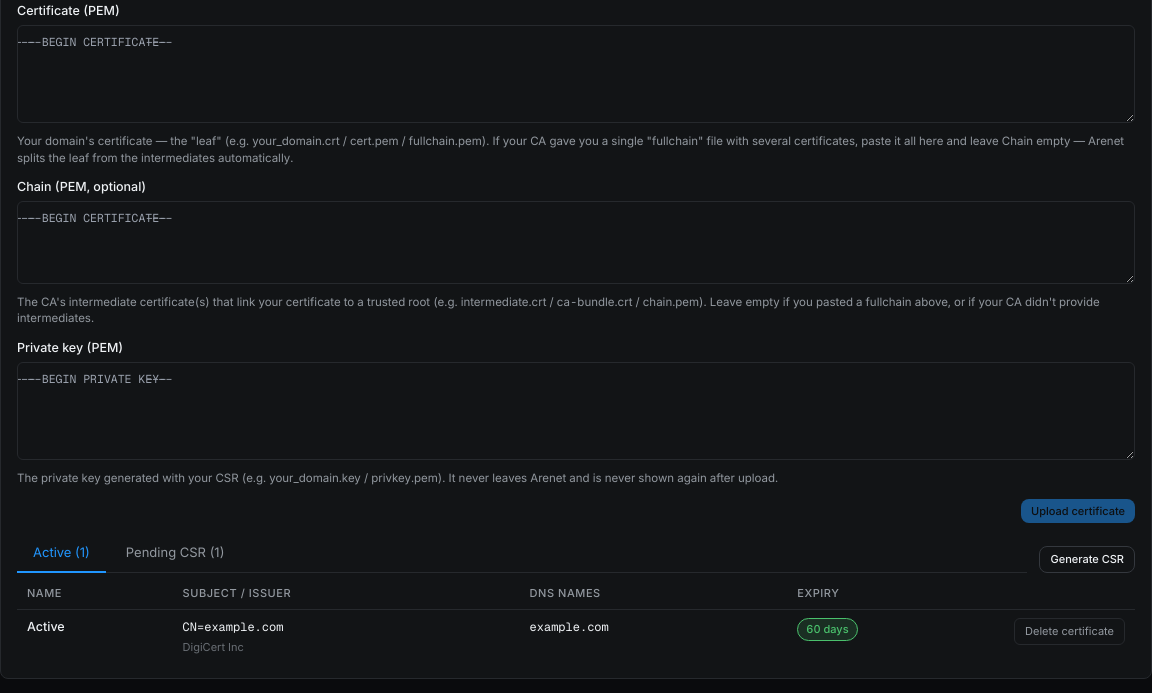
Scenario: ExternalCertsPanel — Active / Pending CSR tabs › splits active and pending_csr rows into tabs
(page scrolled)
Expected: the table with test id "external-certs-table" is shown, x1=17 y1=577 x2=1135 y2=664
Expected: the text "Active" is shown, x1=27 y1=619 x2=65 y2=634
Click the tab with test id "external-certs-tab-pending": (175,554) x1=110 y1=535 x2=240 y2=573
(page scrolled)
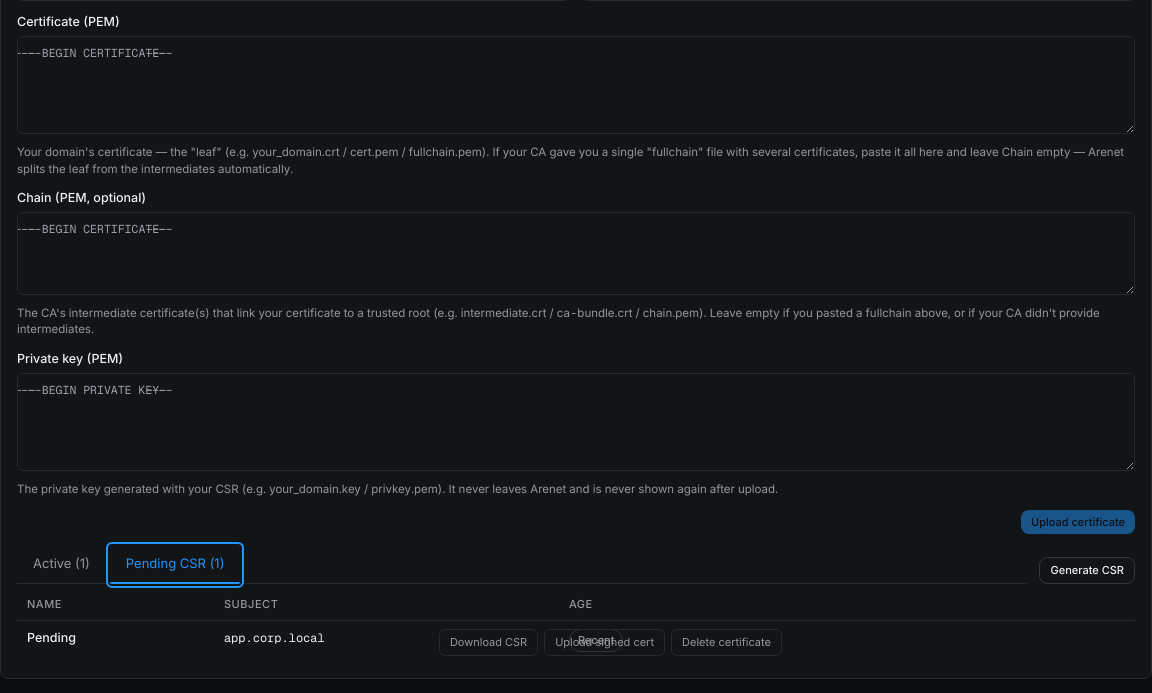
Expected: the text "Pending" is shown, x1=27 y1=630 x2=76 y2=645
Expected: the table with test id "external-certs-table" is gone
